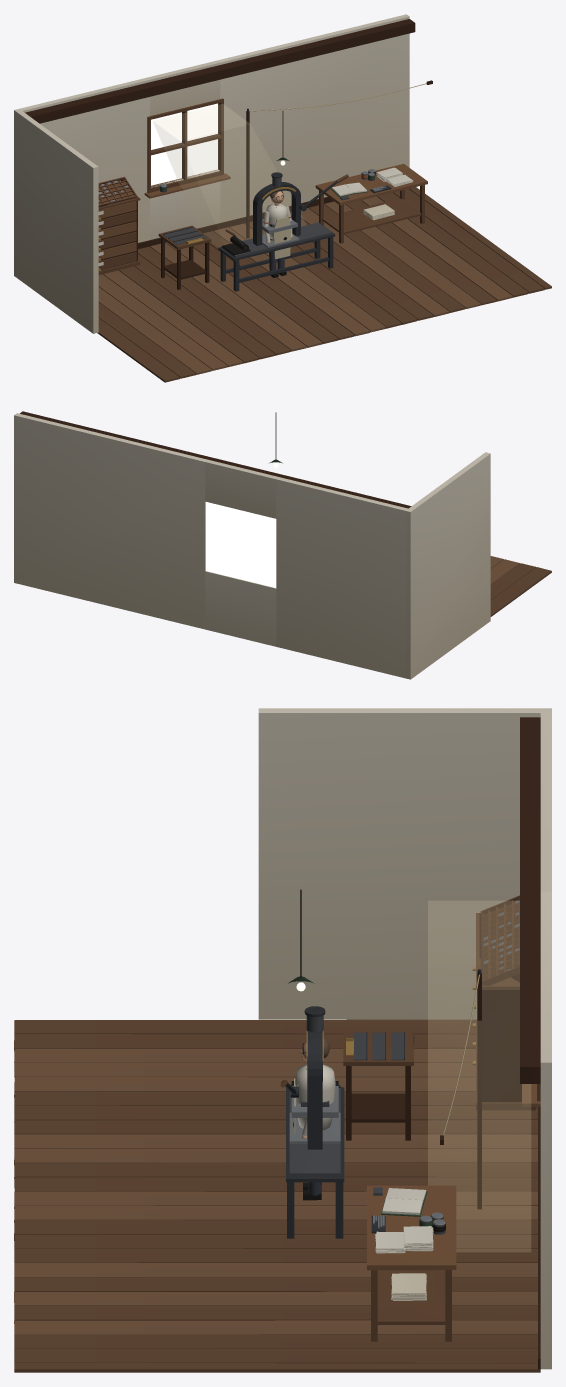
File: drukkerij.glb
The picture shows the model from 3 angles, top to bottom: view 1: azimuth 30°, elevation 25°; view 2: azimuth 150°, elevation 25°; view 3: azimuth 270°, elevation 25°; orthographic projection. The views are drawn at different scales.
Visible parts, largest first — view 1: kamer, licht, bank, pers, raam, zetbank, kast, drukker-lijf, waslijn; view 2: kamer, raam; view 3: kamer, licht, bank, kast, pers, zetbank, waslijn, drukker-lijf, zetboek.
Boxes of the visible parts, <box> form: kamer: <box>14,14,551,382</box>; licht: <box>153,104,306,246</box>; bank: <box>315,163,427,243</box>; pers: <box>218,172,335,291</box>; raam: <box>151,103,217,185</box>; zetbank: <box>158,225,211,289</box>; kast: <box>98,176,140,274</box>; drukker-lijf: <box>266,203,291,277</box>; waslijn: <box>246,80,432,238</box>; kamer: <box>14,411,551,679</box>; raam: <box>205,502,276,587</box>; kamer: <box>14,708,551,1372</box>; licht: <box>428,901,530,1251</box>; bank: <box>367,1185,456,1341</box>; kast: <box>476,895,536,1110</box>; pers: <box>286,1006,344,1238</box>; zetbank: <box>343,1031,414,1140</box>; waslijn: <box>440,969,481,1209</box>; drukker-lijf: <box>293,1064,335,1200</box>; zetboek: <box>381,1188,427,1216</box>.
Size of the model in its own units: 8.92 by 3.64 by 5.72.
